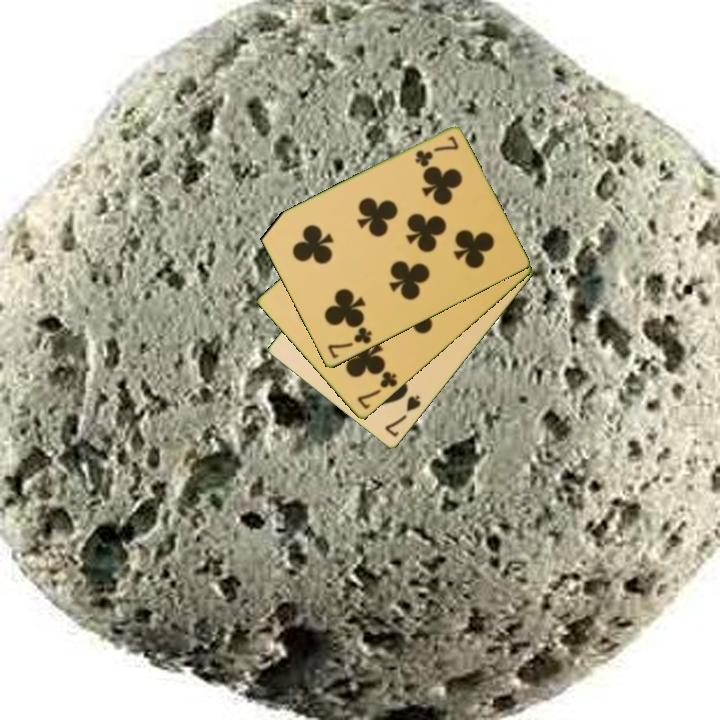7c: (353, 368, 400, 413), (324, 324, 375, 362), (411, 133, 462, 170)
7s: (381, 392, 424, 440)
